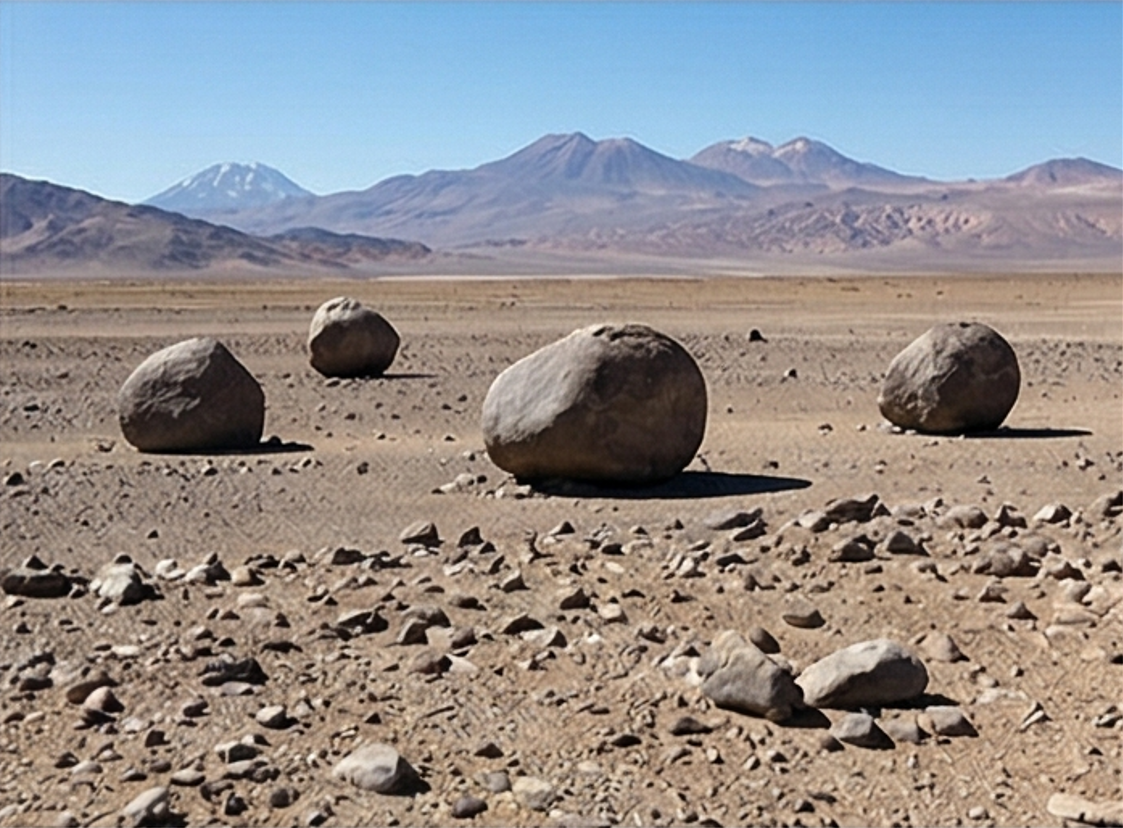rocks: (482, 323, 707, 485), (700, 632, 927, 719), (118, 338, 263, 451), (878, 323, 1020, 433), (310, 297, 398, 376)
